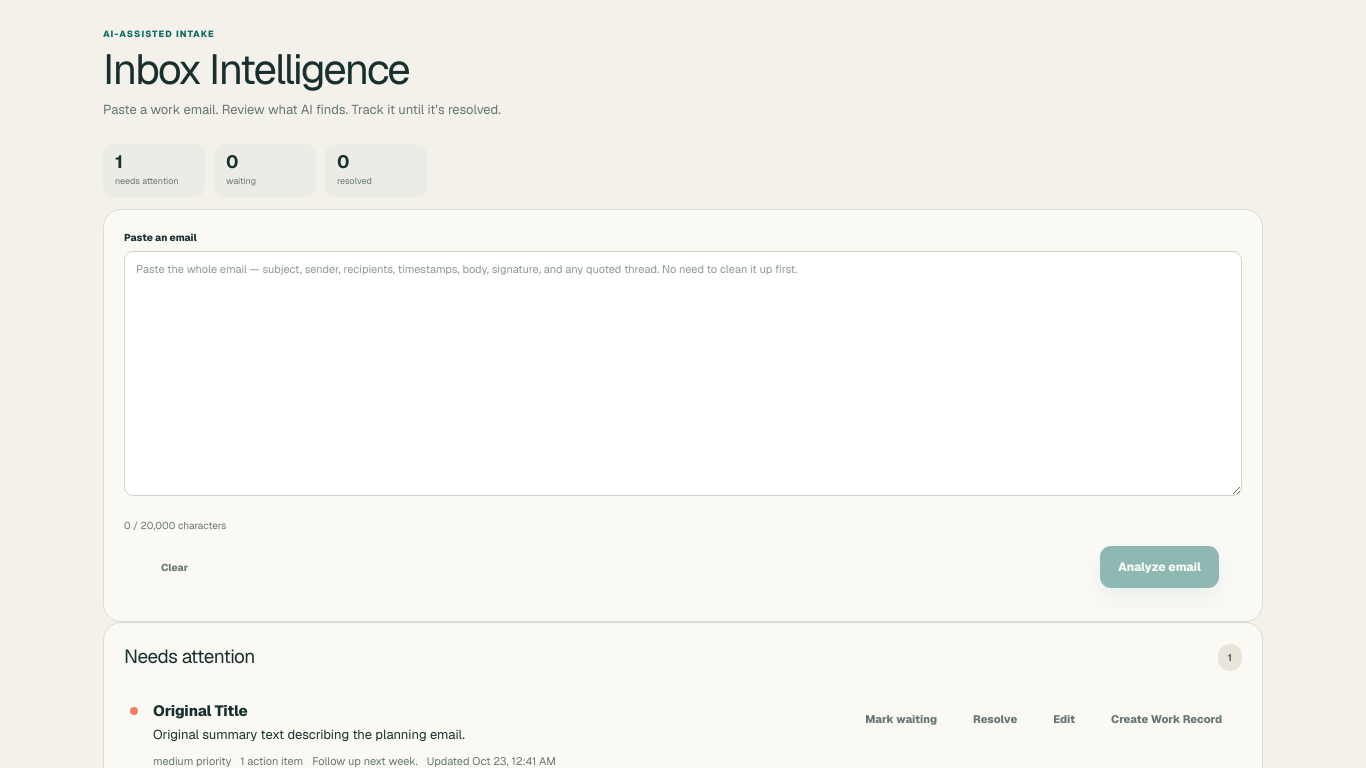
Test: Edit — opening, Cancel, and Save Changes › Cancel performs zero writes
Click the button "Edit".
click(1064, 719)  # box [1039,701,1089,737]
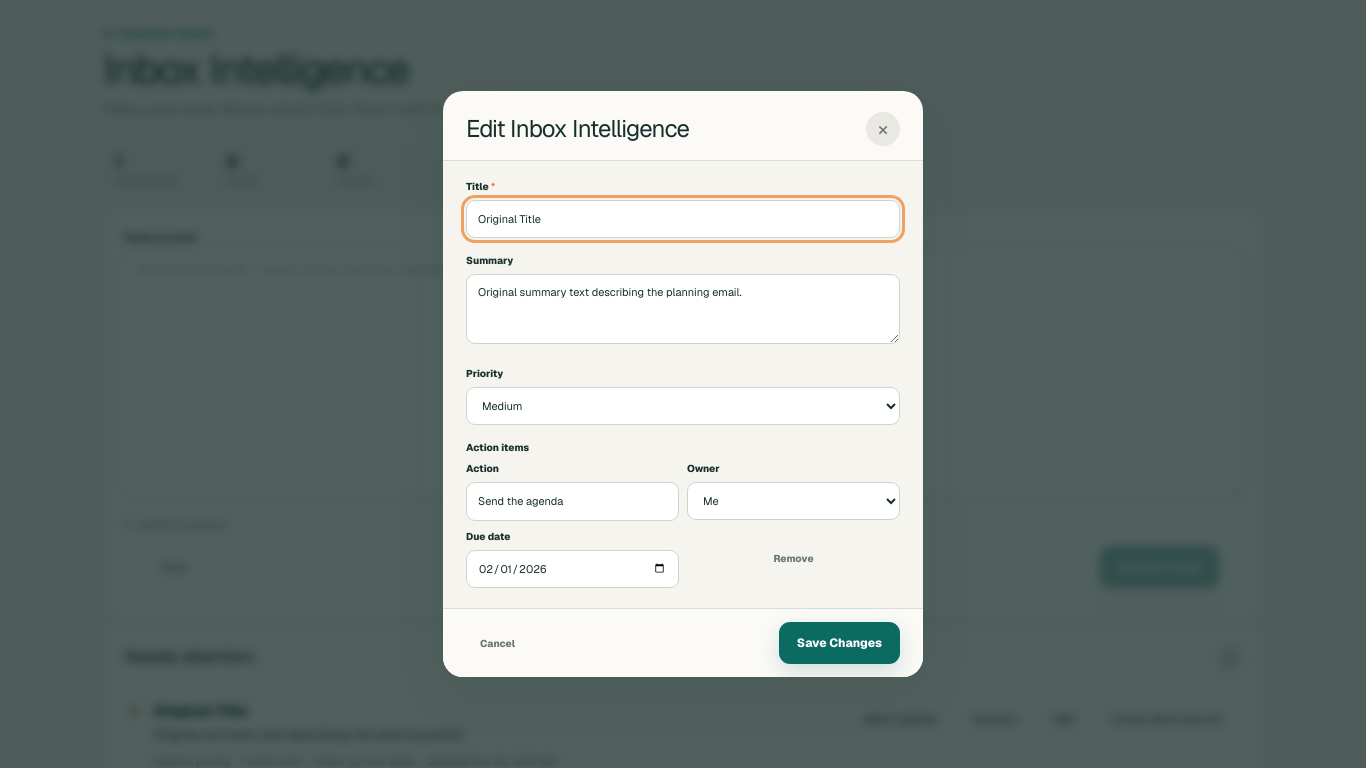
Replace the text in the field labelled "Title *" with "Should never be saved" at (683,219), box [466,200,900,238]
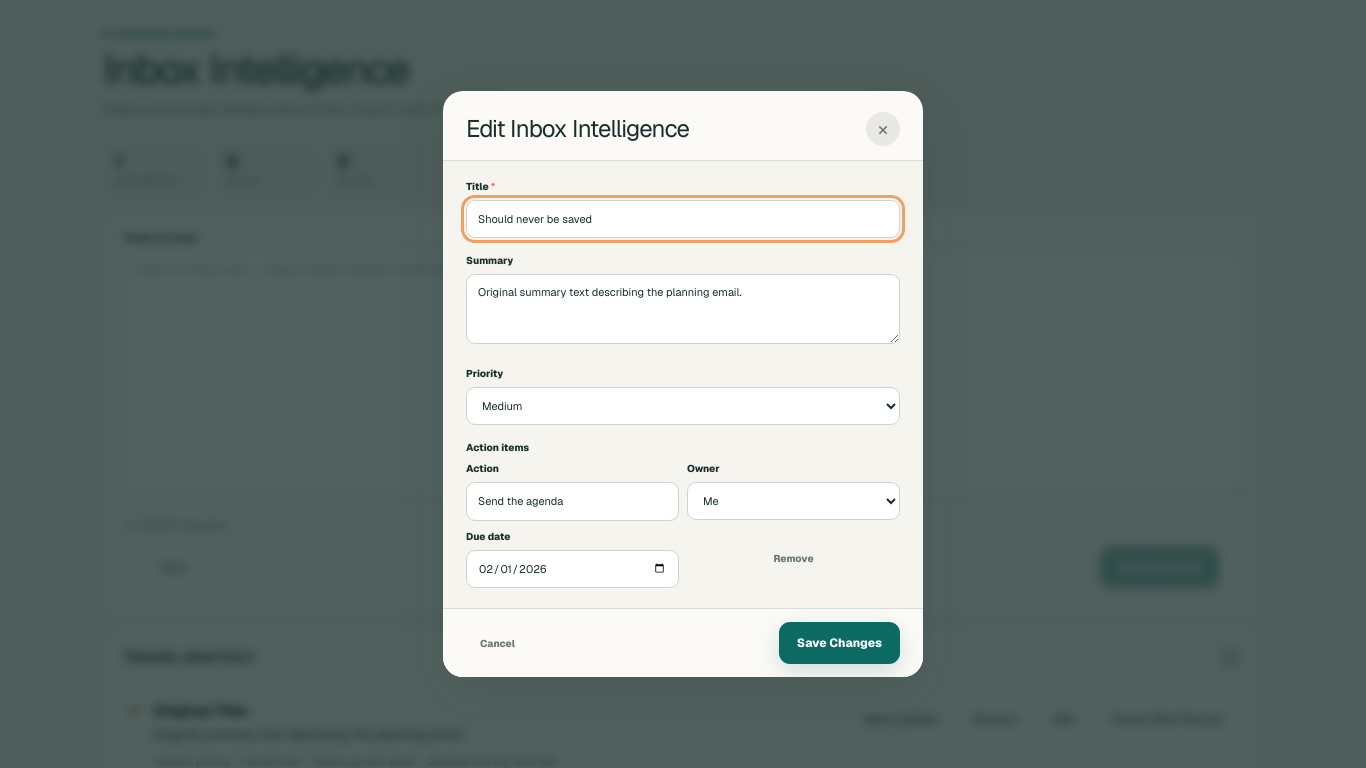
Click the button "Cancel".
click(498, 643)  # box [466,625,529,662]
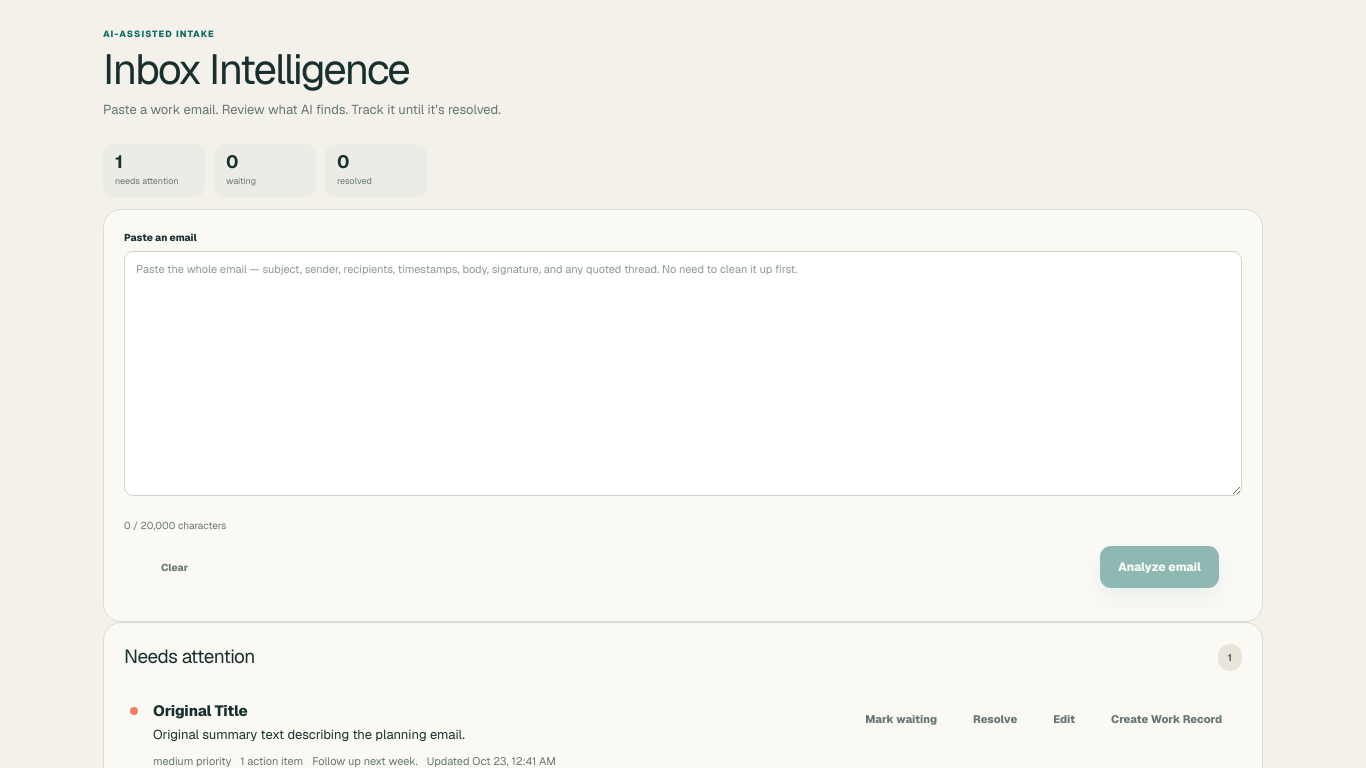
Check: the text "Original Title" is shown, box [153,701,248,720]
Check: the dialog is gone
